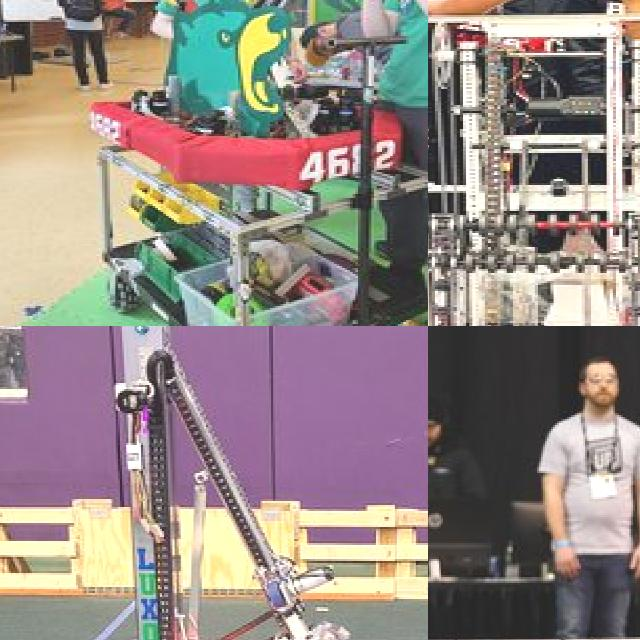FRC-Robots: (47, 326, 428, 640), (428, 0, 640, 326), (79, 0, 428, 186), (494, 344, 640, 640)
